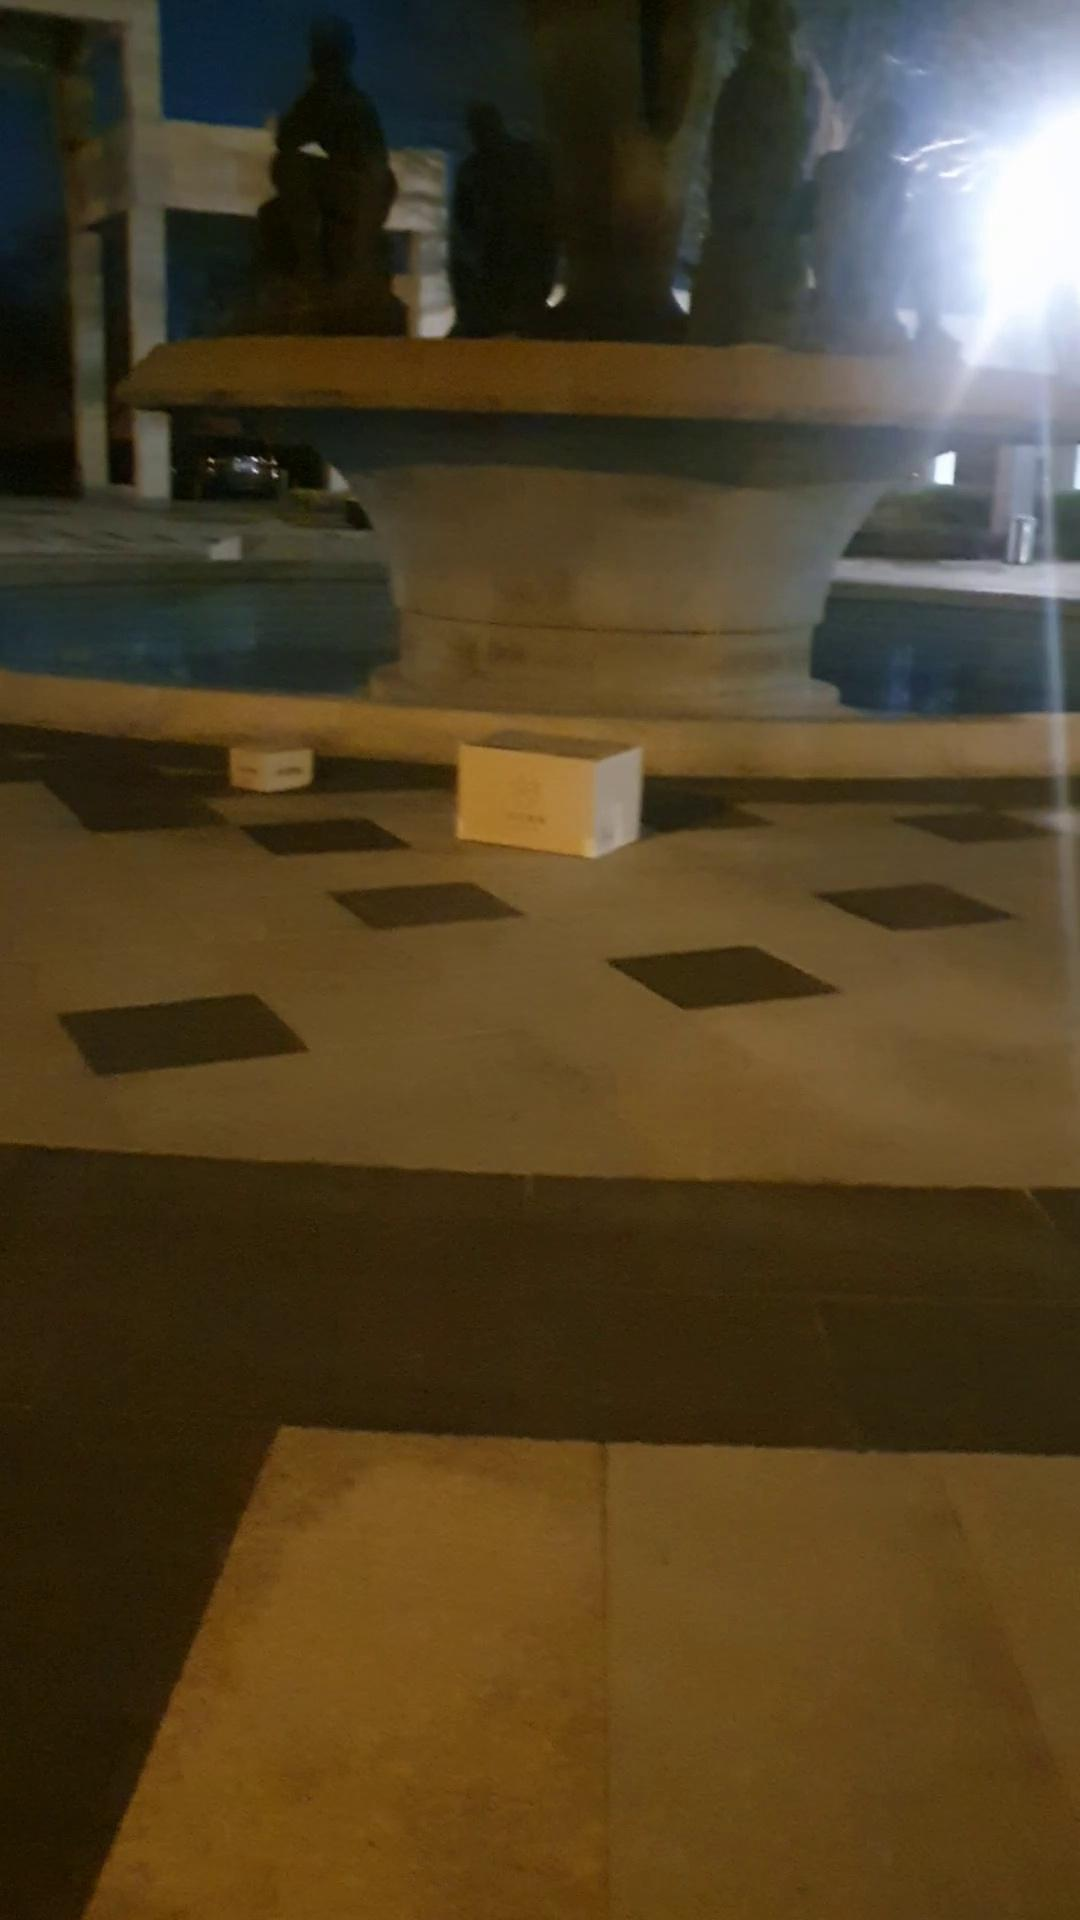Box: (465, 723, 653, 868), (216, 723, 328, 798)
